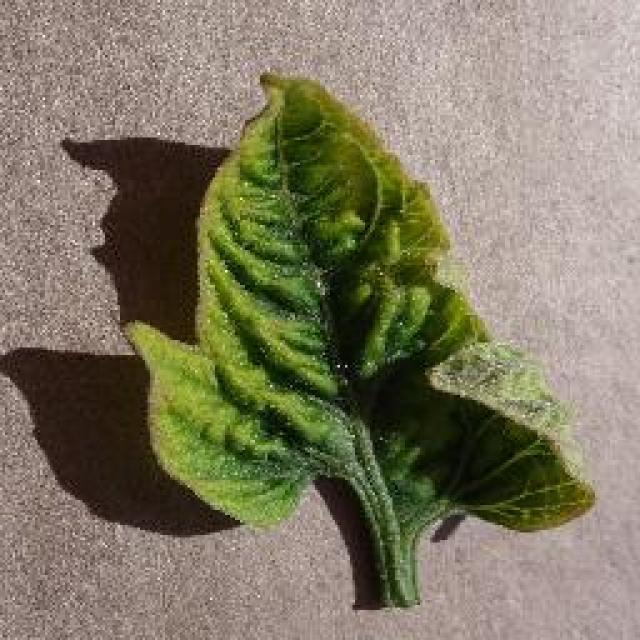Tomato yellow virus leaf: (124, 67, 597, 530)
